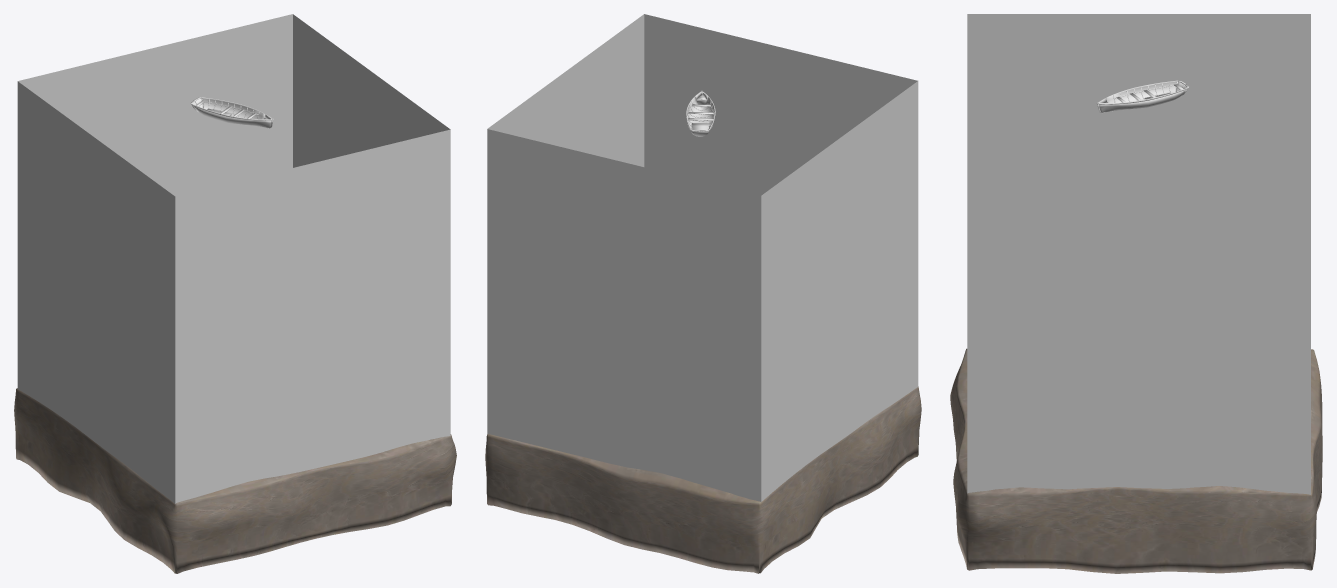
File: Frame Air Laut.fbx
3 views of the same model, side by side, from view 1: azimuth 30°, elevation 25°; view 2: azimuth 150°, elevation 25°; view 3: azimuth 270°, elevation 25° (orthographic). The views are drawn at different scales.
Visible parts, largest first — view 1: Water, Alas pasir, WoodenBoat; view 2: Water, Alas pasir, WoodenBoat; view 3: Water, Alas pasir, WoodenBoat.
Boxes of the visible parts, x1=… form: Water: x1=17, y1=14, x2=450, y2=503; Alas pasir: x1=14, y1=388, x2=456, y2=573; WoodenBoat: x1=190, y1=97, x2=273, y2=128; Water: x1=487, y1=14, x2=918, y2=501; Alas pasir: x1=485, y1=386, x2=921, y2=573; WoodenBoat: x1=686, y1=90, x2=715, y2=136; Water: x1=967, y1=14, x2=1310, y2=494; Alas pasir: x1=950, y1=348, x2=1322, y2=573; WoodenBoat: x1=1096, y1=80, x2=1188, y2=113.
Size of the model in its own units: 214 by 264 by 215.
Materials: 3 (1 with a texture image).
